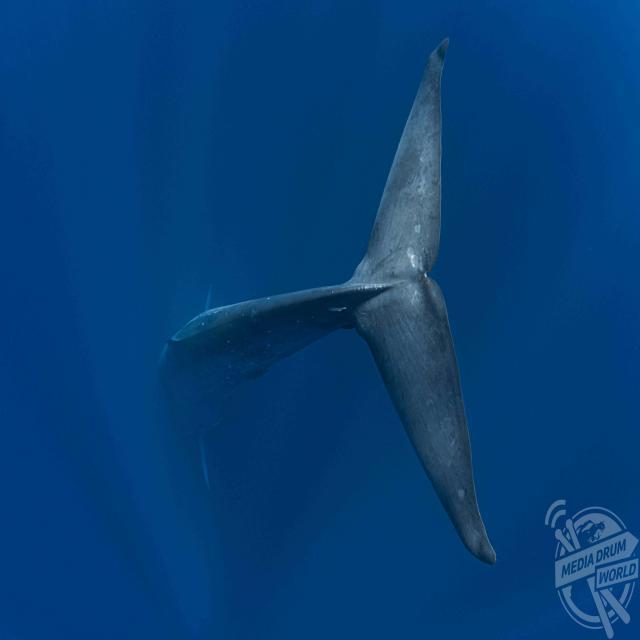blue_whale: (88, 31, 520, 620)
